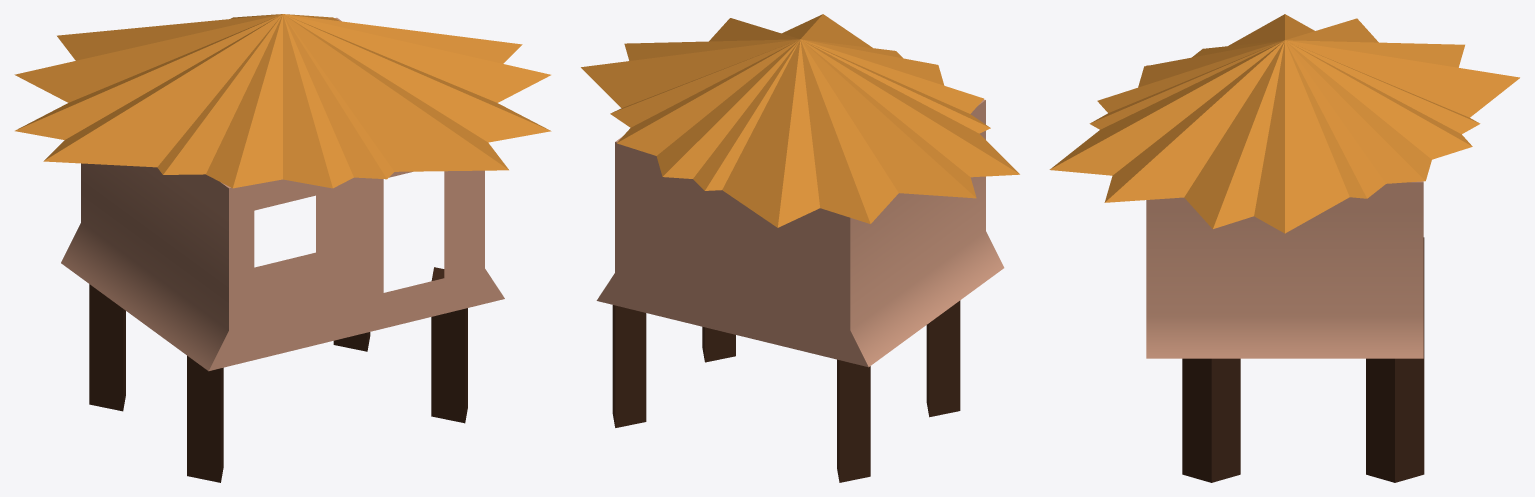
The model's file is finished house.glb.
3 views of the same model, side by side, from view 1: azimuth 30°, elevation 25°; view 2: azimuth 150°, elevation 25°; view 3: azimuth 270°, elevation 25° (orthographic). The views are drawn at different scales.
Parts seen in each view (by area): view 1: Base_House, Roof1, Roof2, Roof3, Roof, Leg, Leg1, Leg2; view 2: Base_House, Roof1, Roof2, Roof3, Roof, Leg3, Leg2, Leg, Leg1; view 3: Base_House, Roof1, Roof2, Roof3, Roof, Leg3, Leg1.
Boxes of the visible parts, x1,y1,x2,y2 form: Base_House: (61,17,504,371); Roof1: (14,14,551,188); Roof2: (57,14,508,174); Roof3: (15,14,550,188); Roof: (43,14,522,179); Leg: (187,355,223,482); Leg1: (431,267,467,423); Leg2: (89,284,125,411); Base_House: (596,99,1004,367); Roof1: (617,18,983,223); Roof2: (610,14,990,227); Roof3: (624,39,976,198); Roof: (581,39,1019,190); Leg3: (612,305,646,427); Leg2: (837,359,870,482); Leg: (926,300,960,417); Leg1: (702,326,735,362); Base_House: (1146,65,1423,358); Roof1: (1104,40,1464,202); Roof2: (1049,40,1519,198); Roof3: (1097,18,1472,228); Roof: (1089,14,1480,233); Leg3: (1366,349,1424,482); Leg1: (1182,358,1240,482).
Size of the model in its own units: 0.1128 by 0.09 by 0.1023.
